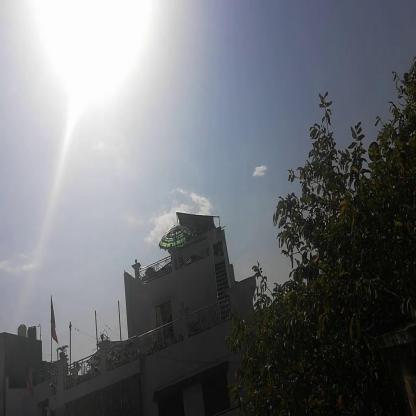other: (28, 0, 161, 153)
